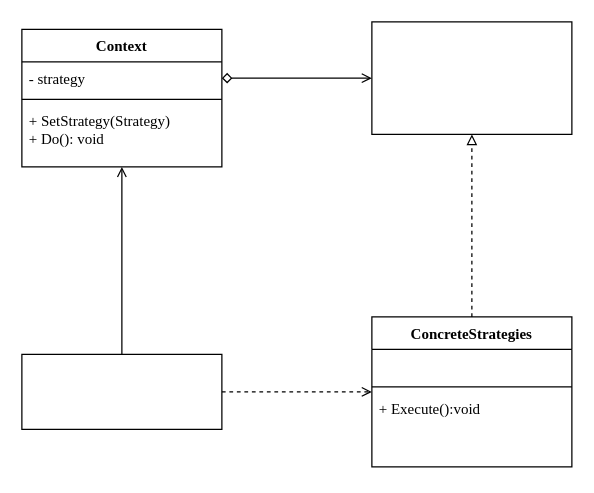
The diagram is 594 pixels wide and 493 high, and some of its shapes have lost their labels. The shapes that lost their labels are listed below. From the top down, each one's centre as x and y in pixels, then its label:
At [471,77]: "<<Interface>> Strategy + Execute():void".
At [121,391]: "Client".
